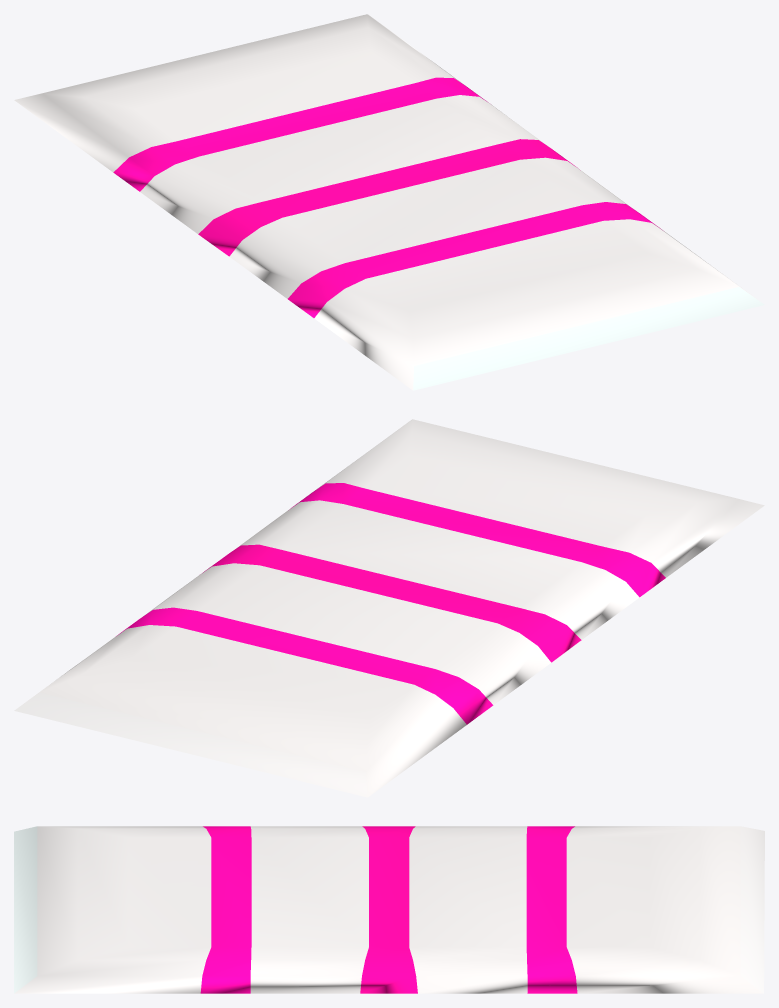
The model's file is BeachTowelPink.glb.
The picture shows the model from 3 angles, top to bottom: view 1: azimuth 30°, elevation 25°; view 2: azimuth 150°, elevation 25°; view 3: azimuth 270°, elevation 25°; orthographic projection. The views are drawn at different scales.
Visible parts, largest first — view 1: BeachTowelPink; view 2: BeachTowelPink; view 3: BeachTowelPink.
Boxes of the visible parts, x1,y1,x2,y2 form: BeachTowelPink: (14,14,764,390); BeachTowelPink: (14,419,764,797); BeachTowelPink: (14,826,764,993).
Bounding box in the file's own units: 1.43 × 0.0831 × 2.79.
Materials: 1 (1 with a texture image).
